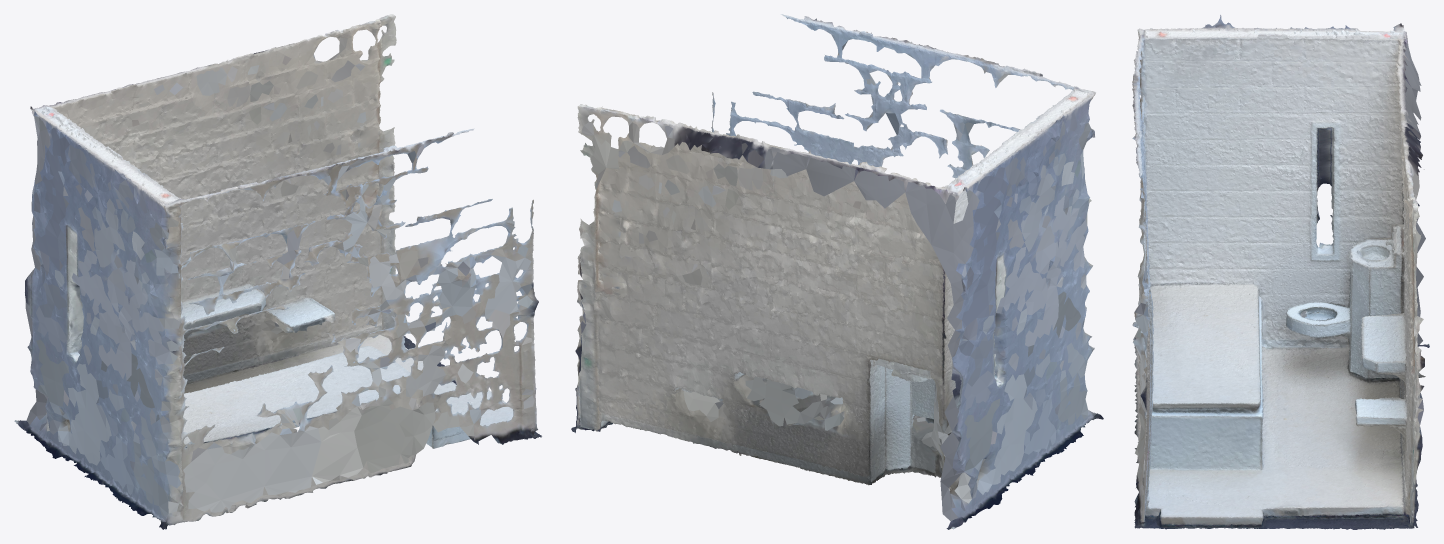
3 views of the same model, side by side, from view 1: azimuth 30°, elevation 25°; view 2: azimuth 150°, elevation 25°; view 3: azimuth 270°, elevation 25° (orthographic). The views are drawn at different scales.
Parts seen in each view (by area): view 1: Antonia; view 2: Antonia; view 3: Antonia.
Part boxes in pixels (x1,y1,x2,y2): Antonia: (14,14,541,529); Antonia: (571,14,1103,529); Antonia: (1132,15,1429,529).
Size of the model in its own units: 0.4286 by 0.3571 by 0.2889.
1 material, 1 textured.
